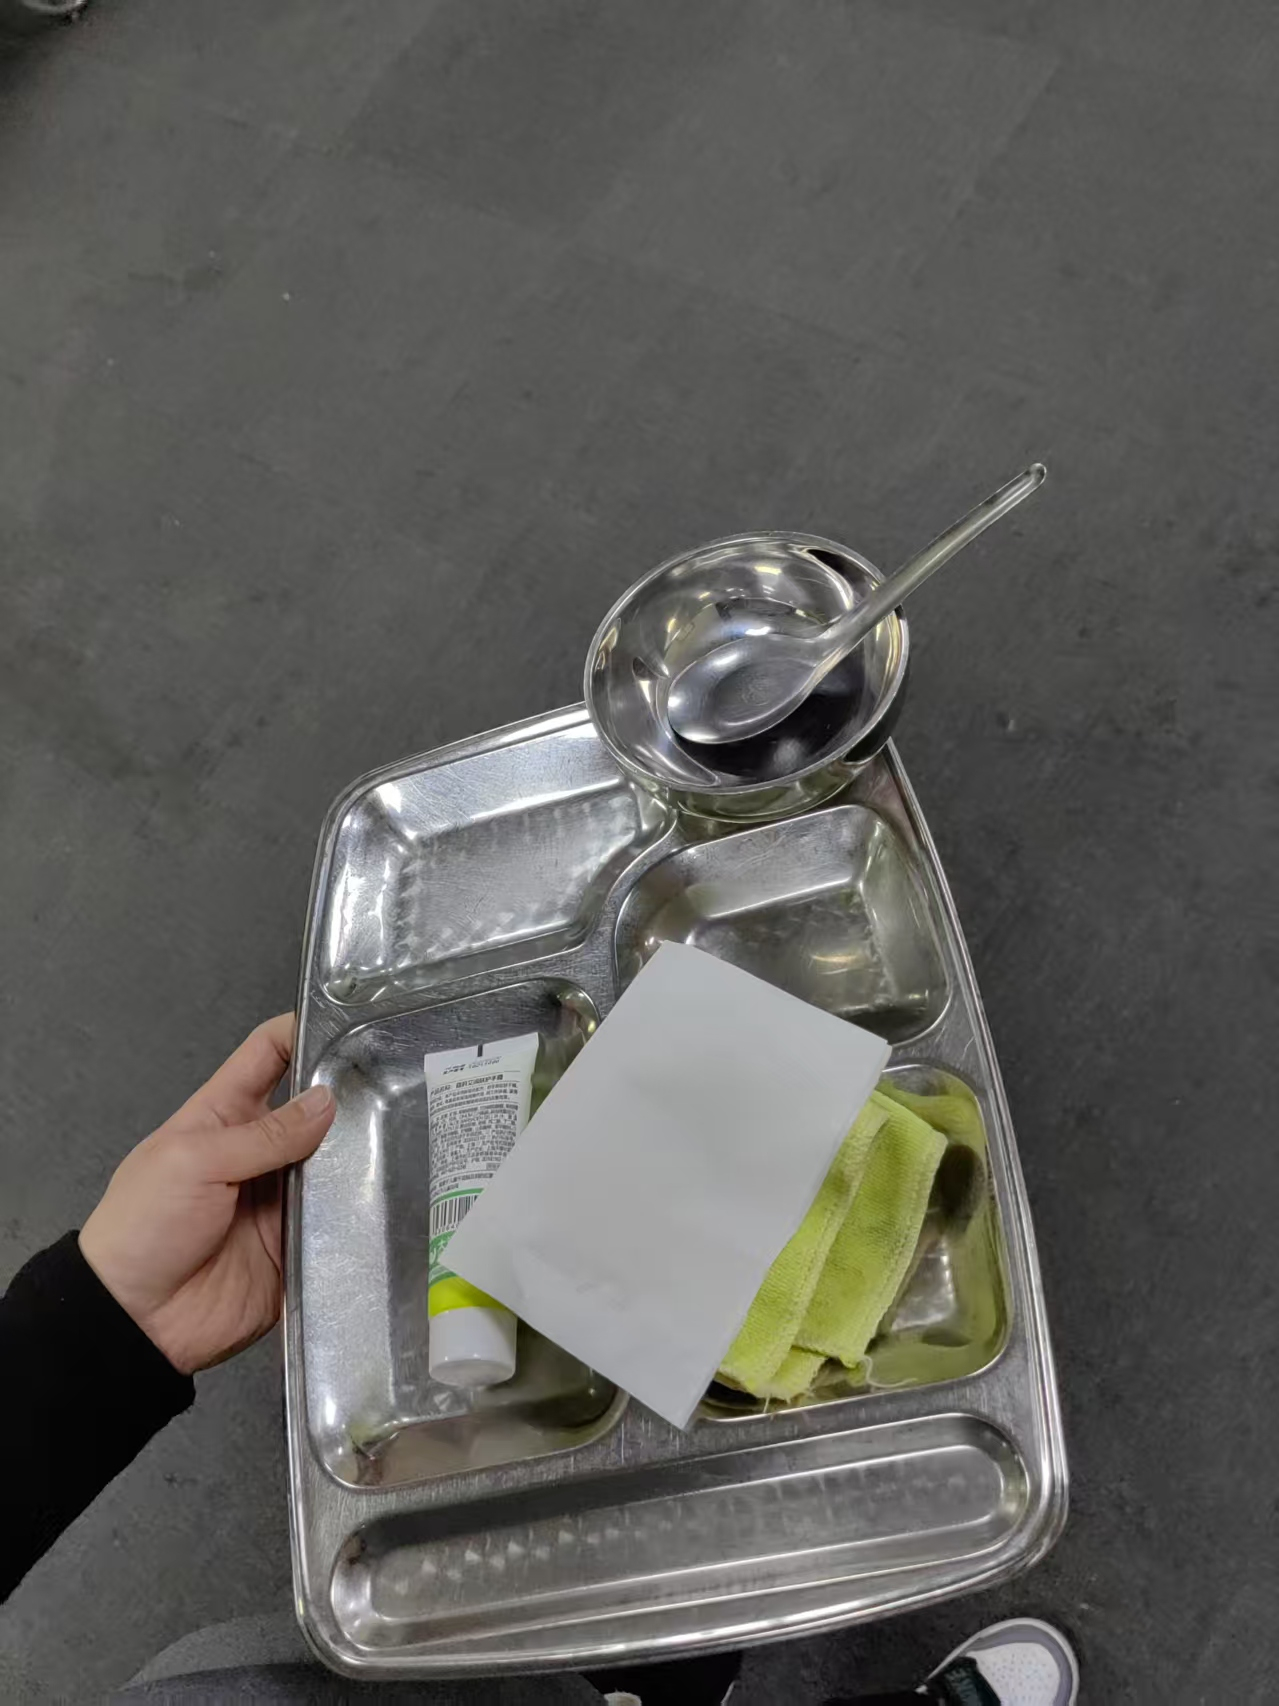mild: (421, 1029, 954, 1403)
plate: (280, 659, 1075, 1680)
tissue: (436, 939, 893, 1434)
